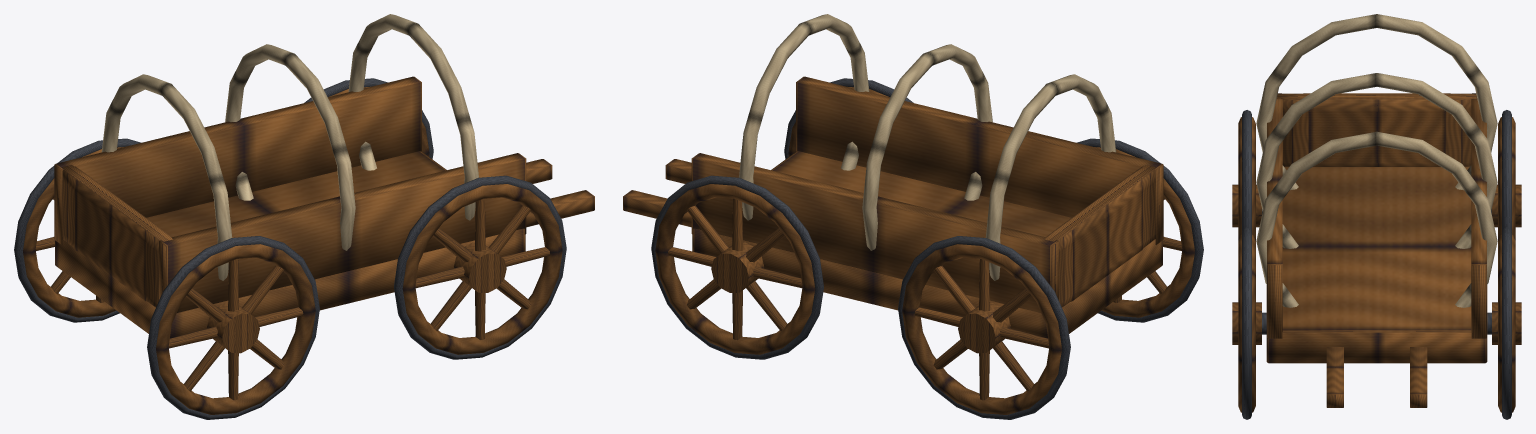
File: wagon.glb
The picture shows the model from 3 angles, left to right: view 1: azimuth 30°, elevation 25°; view 2: azimuth 150°, elevation 25°; view 3: azimuth 270°, elevation 25°; orthographic projection. The views are drawn at different scales.
Parts seen in each view (by area): view 1: OverturnedWagon; view 2: OverturnedWagon; view 3: OverturnedWagon.
Part boxes in pixels (x1,y1,x2,y2): OverturnedWagon: (14, 14, 594, 419); OverturnedWagon: (623, 14, 1203, 419); OverturnedWagon: (1232, 14, 1521, 419).
Bounding box in the file's own units: 59.36 × 33.25 × 31.2.
Materials: 3 (3 with a texture image).
